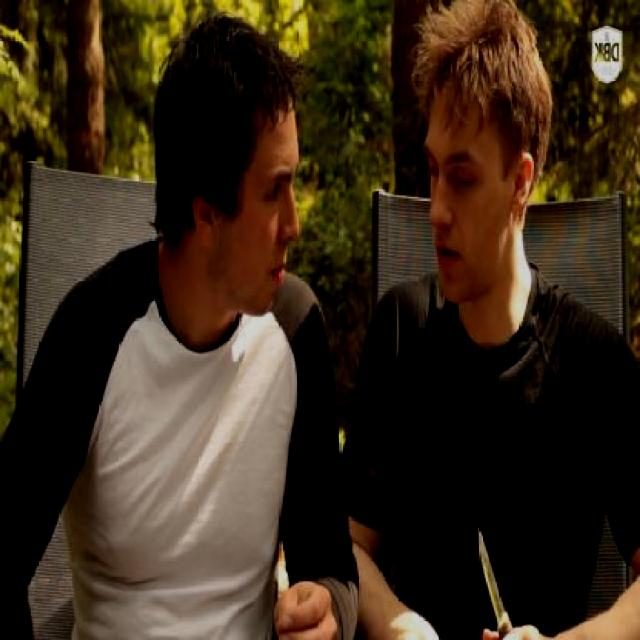knife: (468, 514, 534, 638)
